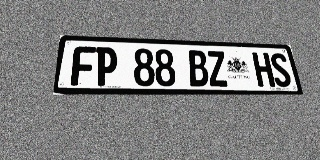8: (154, 49, 176, 86), (134, 48, 155, 86)
B: (187, 50, 210, 86)
F: (70, 46, 96, 86)
H: (252, 52, 276, 87)
P: (94, 47, 117, 86)
S: (269, 53, 293, 87)
Z: (206, 51, 229, 87)
